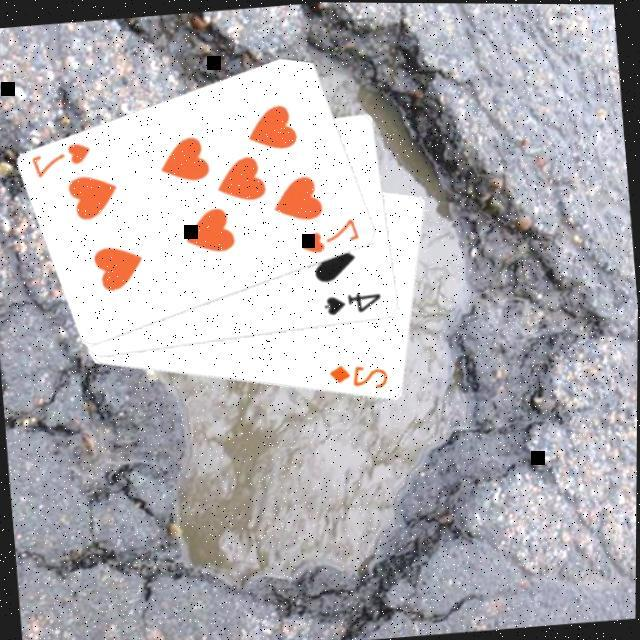2D: (328, 358, 395, 395)
4S: (322, 287, 388, 319)
7H: (28, 138, 98, 182), (298, 214, 366, 258)
